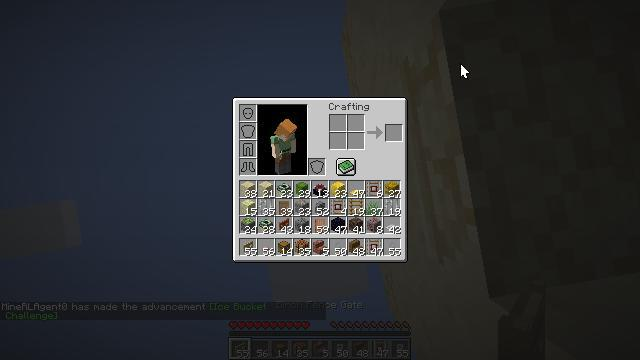cursor: (460, 63, 470, 79)
